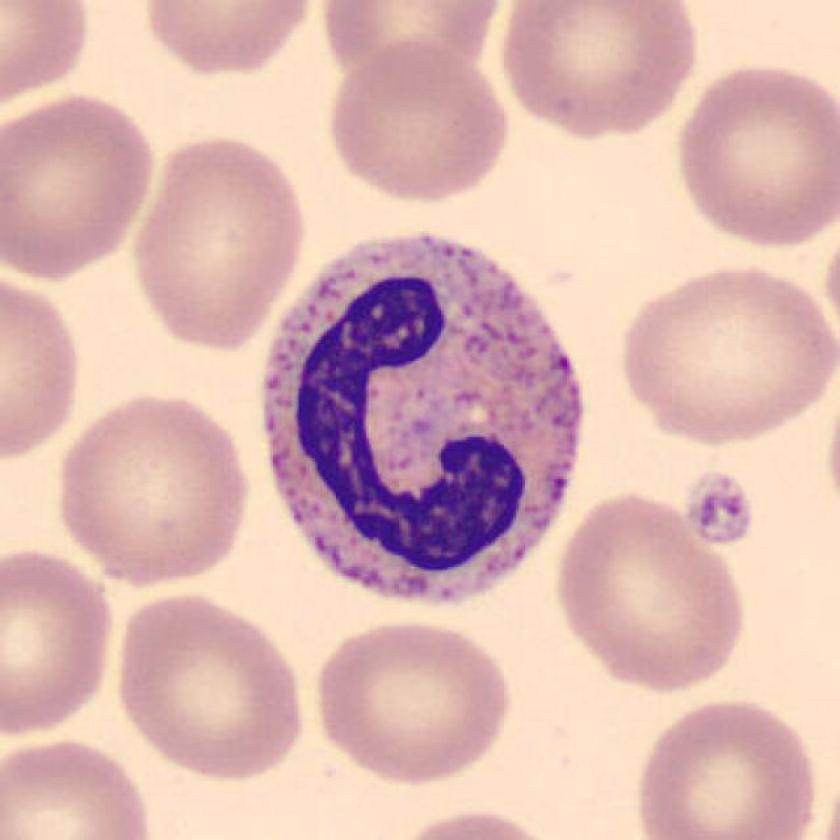neutrophil: (268, 235, 581, 601)
